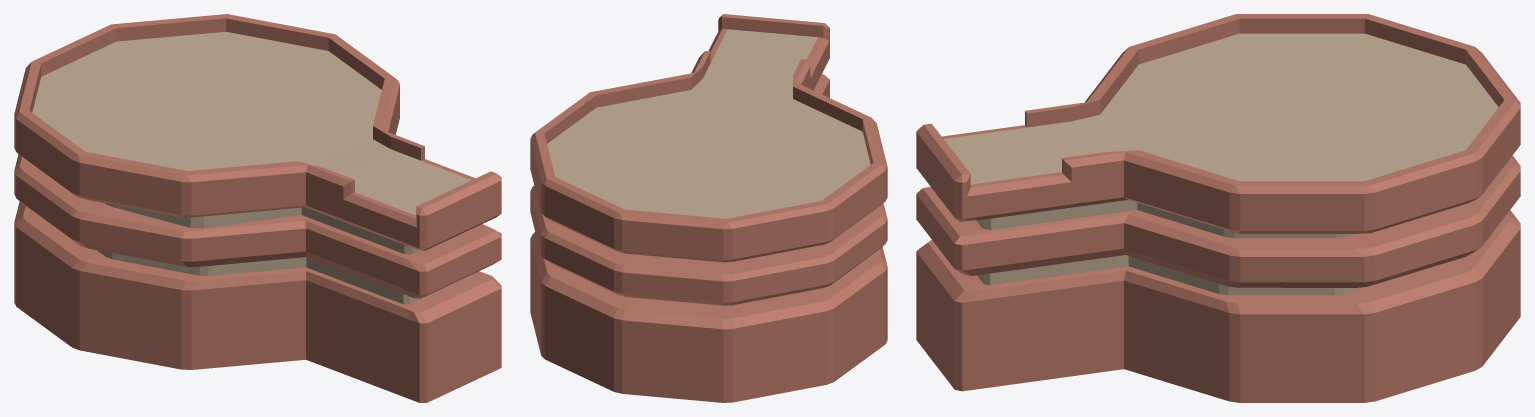
Rendered from Platform.fbx.
3 views of the same model, side by side, from view 1: azimuth 30°, elevation 25°; view 2: azimuth 150°, elevation 25°; view 3: azimuth 270°, elevation 25° (orthographic). The views are drawn at different scales.
Visible parts, largest first — view 1: Cylinder; view 2: Cylinder; view 3: Cylinder.
Boxes of the visible parts, <box> form: Cylinder: <box>14,14,501,402</box>; Cylinder: <box>530,14,887,402</box>; Cylinder: <box>916,14,1520,402</box>.
Size of the model in its own units: 2853 by 1612 by 4116.
